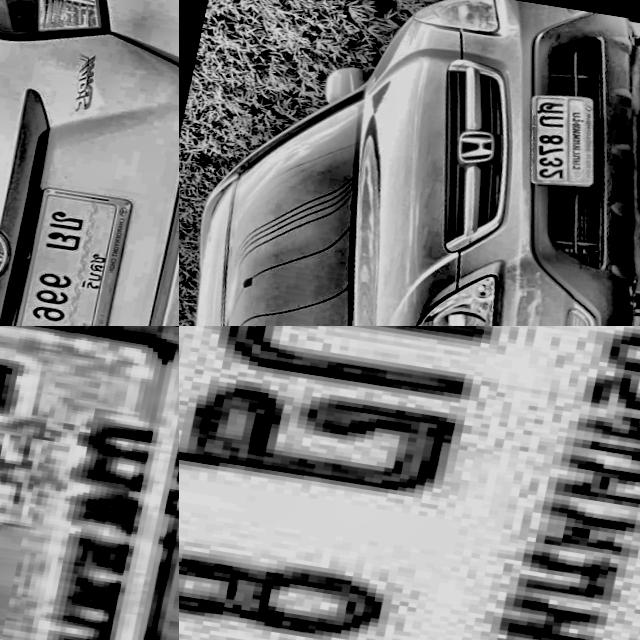license-plate: (179, 326, 640, 640), (0, 326, 179, 640), (10, 181, 140, 326), (512, 90, 615, 192)
